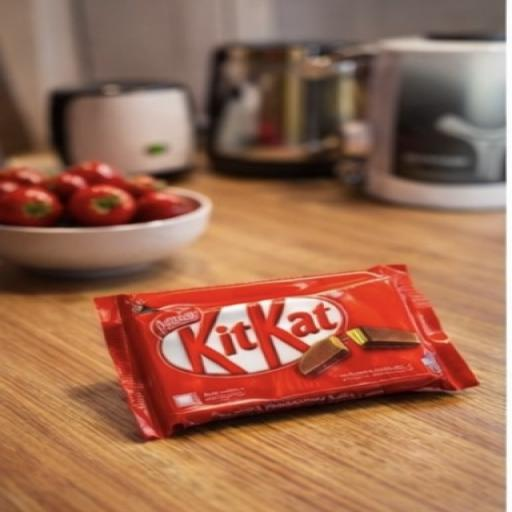kitkat: (54, 224, 496, 450)
